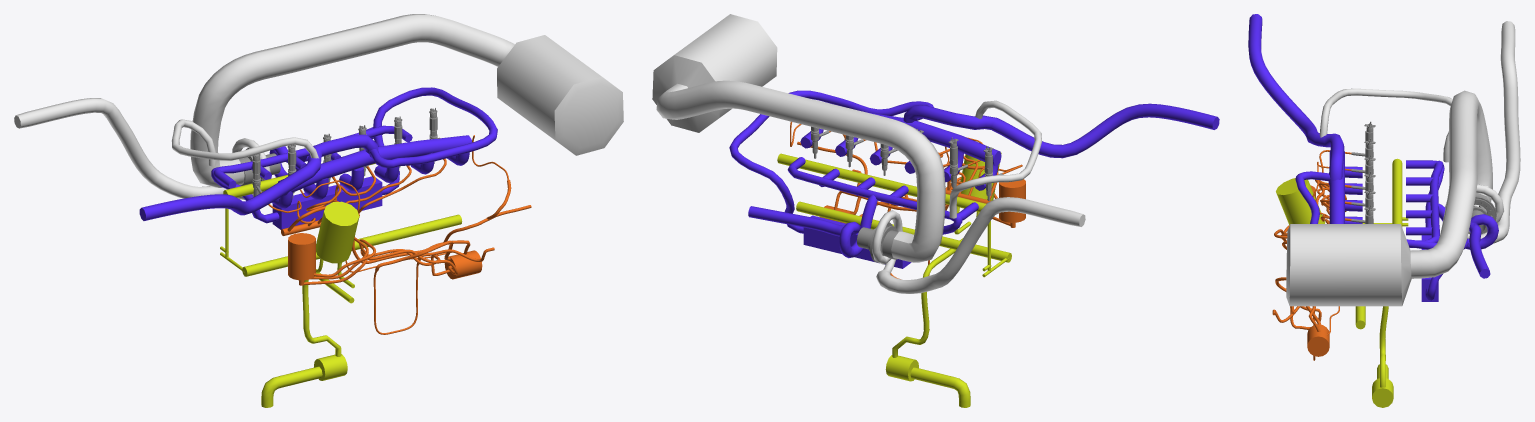
File: Exxotest_Import_Fluide_Turbbo_Injectv2.FBX
3 views of the same model, side by side, from view 1: azimuth 30°, elevation 25°; view 2: azimuth 150°, elevation 25°; view 3: azimuth 270°, elevation 25° (orthographic). The views are drawn at different scales.
Parts seen in each view (by area): view 1: fluiode001, Cylinder033, Cylinder035, Cylinder034, Cylinder056, Refroiddissemnt EGR, Cylinder048, Cylinder057, fluide essence _rampecommune 04, fluide essence _rampecommune reservoir 02, Cylinder030, Cylinder031 (+5 smaller); view 2: fluiode001, Cylinder035, Cylinder033, Cylinder054, Cylinder048, Cylinder058, Cylinder057, Cylinder034, Refroiddissemnt EGR, Cylinder030, Cylinder031, fluide essence _rampecommune reservoir 02 (+4 smaller); view 3: fluiode001, Cylinder035, Cylinder033, Cylinder048, Cylinder054, Cylinder056, Cylinder034, Cylinder058, fluide essence _rampecommune reservoir 01, fluide essence _rampecommune 04, Cylinder032, Cylinder031 (+2 smaller).
Boxes of the visible parts, x1=… form: fluiode001: x1=14, y1=14, x2=623, y2=199; Cylinder033: x1=211, y1=87, x2=497, y2=223; Cylinder035: x1=139, y1=134, x2=378, y2=220; Cylinder034: x1=278, y1=135, x2=472, y2=196; Cylinder056: x1=316, y1=201, x2=359, y2=263; Refroiddissemnt EGR: x1=272, y1=176, x2=382, y2=229; Cylinder048: x1=171, y1=119, x2=318, y2=166; Cylinder057: x1=242, y1=214, x2=462, y2=276; fluide essence _rampecommune 04: x1=260, y1=158, x2=446, y2=226; fluide essence _rampecommune reservoir 02: x1=288, y1=233, x2=315, y2=285; Cylinder030: x1=261, y1=366, x2=322, y2=407; Cylinder031: x1=302, y1=272, x2=354, y2=356; fluiode001: x1=652, y1=14, x2=1085, y2=293; Cylinder035: x1=903, y1=103, x2=1219, y2=158; Cylinder033: x1=729, y1=90, x2=962, y2=234; Cylinder054: x1=748, y1=195, x2=877, y2=258; Cylinder048: x1=949, y1=100, x2=1041, y2=218; Cylinder058: x1=777, y1=153, x2=986, y2=212; Cylinder057: x1=796, y1=201, x2=1011, y2=262; Cylinder034: x1=867, y1=112, x2=1001, y2=166; Refroiddissemnt EGR: x1=803, y1=215, x2=911, y2=268; Cylinder030: x1=910, y1=367, x2=970, y2=407; Cylinder031: x1=892, y1=248, x2=955, y2=357; fluide essence _rampecommune reservoir 02: x1=999, y1=179, x2=1025, y2=227; fluiode001: x1=1286, y1=21, x2=1520, y2=306; Cylinder035: x1=1248, y1=14, x2=1344, y2=184; Cylinder033: x1=1295, y1=160, x2=1468, y2=300; Cylinder048: x1=1319, y1=88, x2=1452, y2=162; Cylinder054: x1=1438, y1=203, x2=1498, y2=278; Cylinder056: x1=1276, y1=178, x2=1325, y2=225; Cylinder034: x1=1329, y1=150, x2=1344, y2=223; Cylinder058: x1=1392, y1=158, x2=1402, y2=227; fluide essence _rampecommune reservoir 01: x1=1307, y1=324, x2=1329, y2=356; fluide essence _rampecommune 04: x1=1310, y1=150, x2=1351, y2=223; Cylinder032: x1=1372, y1=378, x2=1393, y2=407; Cylinder031: x1=1379, y1=306, x2=1388, y2=387.
Size of the model in its own units: 4656 by 2804 by 2281.
